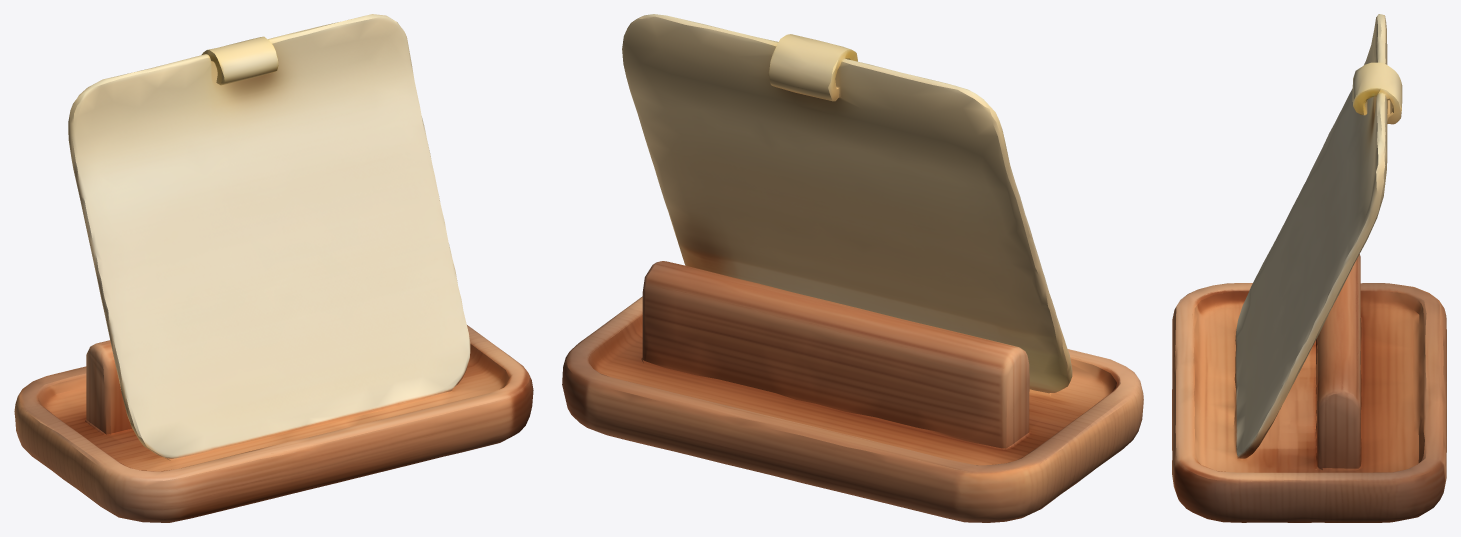
Rendered from TaskSticky.glb.
The picture shows the model from 3 angles, left to right: view 1: azimuth 30°, elevation 25°; view 2: azimuth 150°, elevation 25°; view 3: azimuth 270°, elevation 25°; orthographic projection. The views are drawn at different scales.
Visible parts, largest first — view 1: geometry_0; view 2: geometry_0; view 3: geometry_0.
Boxes of the visible parts, box(x1,y1,x2,y2) form: geometry_0: box(14, 14, 533, 522); geometry_0: box(562, 14, 1143, 522); geometry_0: box(1172, 14, 1446, 522).
Bounding box in the file's own units: 1 × 0.8207 × 0.5772.
1 material, 1 textured.
